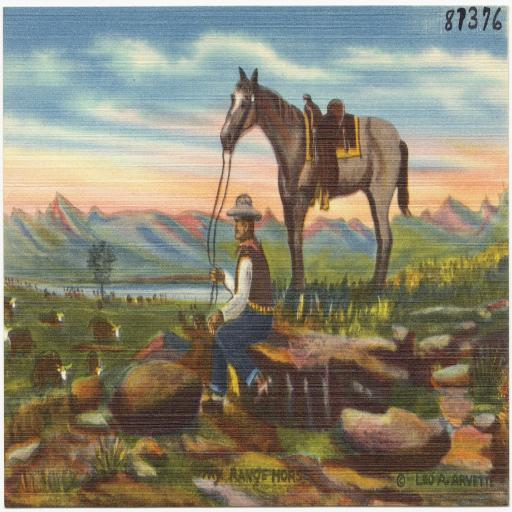horse: (219, 62, 414, 290)
